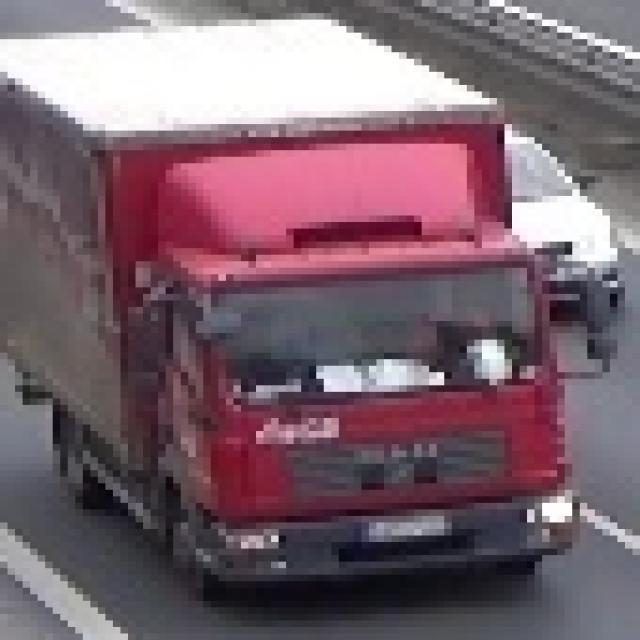Truck: (7, 6, 625, 582)
